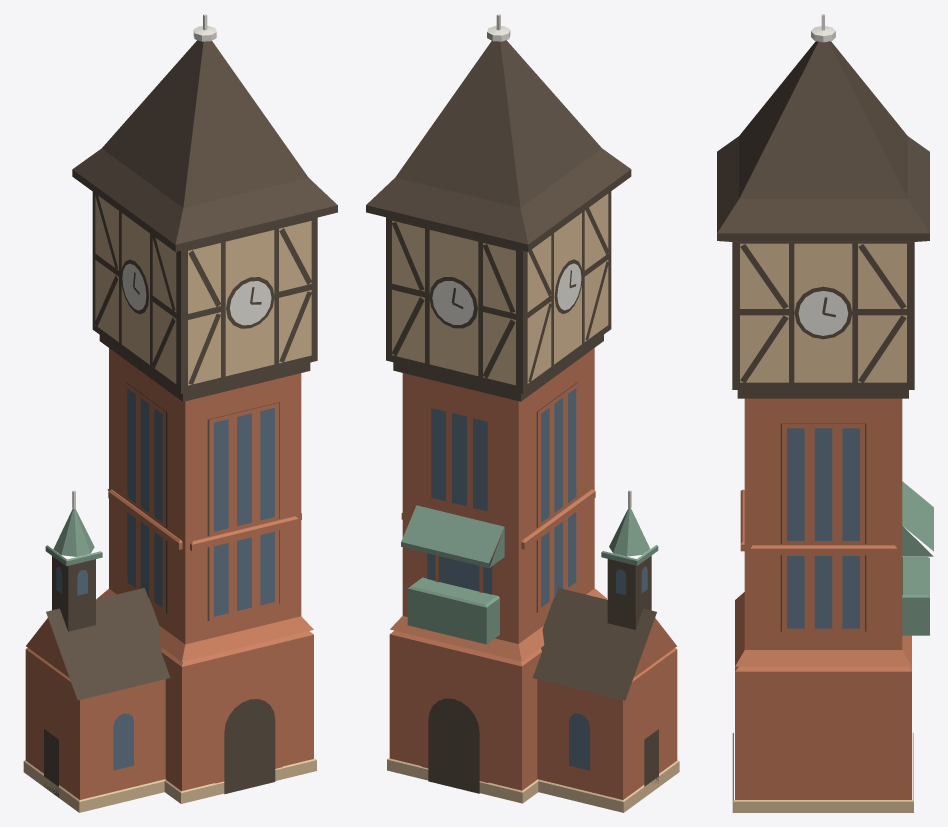
The model's file is cin-carroll-chimes.glb.
3 renders of one model, left to right at view 1: azimuth 30°, elevation 25°; view 2: azimuth 150°, elevation 25°; view 3: azimuth 270°, elevation 25°, orthographic. The views are drawn at different scales.
Visible parts, largest first — view 1: Carroll Chimes Bell Tower; view 2: Carroll Chimes Bell Tower; view 3: Carroll Chimes Bell Tower.
Part boxes in pixels (x1,y1,x2,y2): Carroll Chimes Bell Tower: [23, 14, 337, 812]; Carroll Chimes Bell Tower: [366, 14, 679, 812]; Carroll Chimes Bell Tower: [717, 14, 933, 812].
Bounding box in the file's own units: 10.35 × 30.5 × 7.85.
